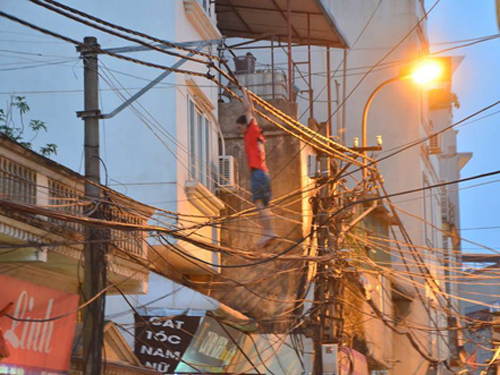infiltrator: (231, 84, 285, 249)
